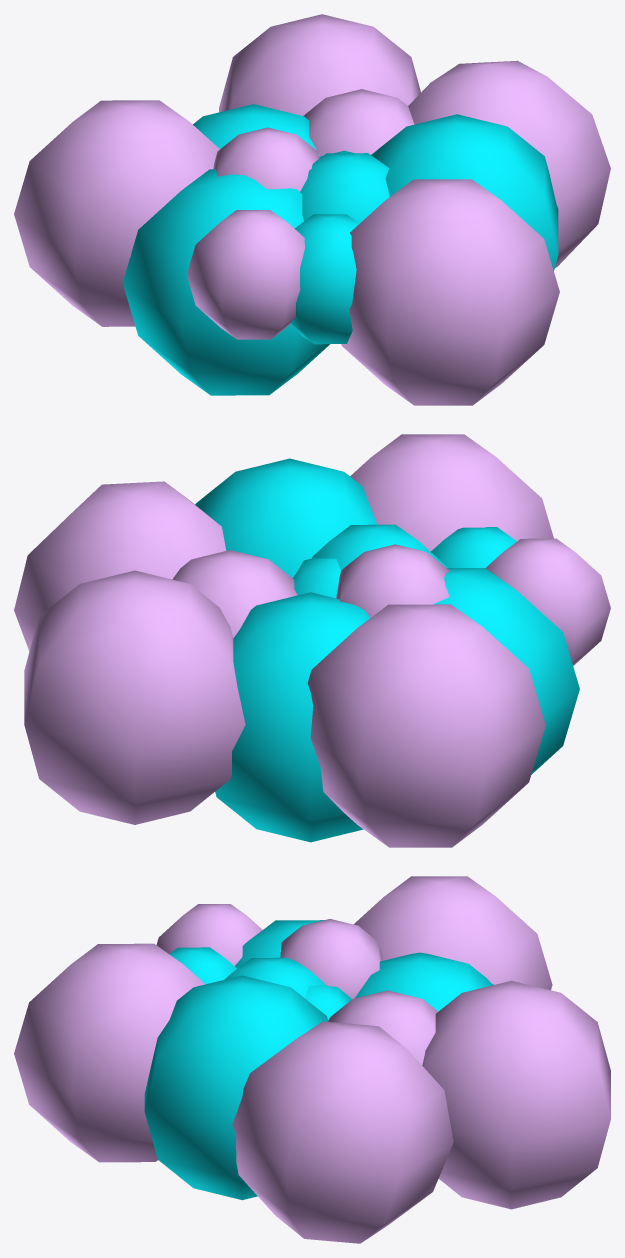
File: Bubble.fbx
The picture shows the model from 3 angles, top to bottom: view 1: azimuth 30°, elevation 25°; view 2: azimuth 150°, elevation 25°; view 3: azimuth 270°, elevation 25°; orthographic projection. The views are drawn at different scales.
Parts seen in each view (by area): view 1: pSphere7; view 2: pSphere7; view 3: pSphere7.
Part boxes in pixels (x1,y1,x2,y2): pSphere7: (14, 14, 610, 405); pSphere7: (14, 434, 610, 847); pSphere7: (14, 876, 610, 1243).
Bounding box in the file's own units: 1460 × 690 × 1600.
